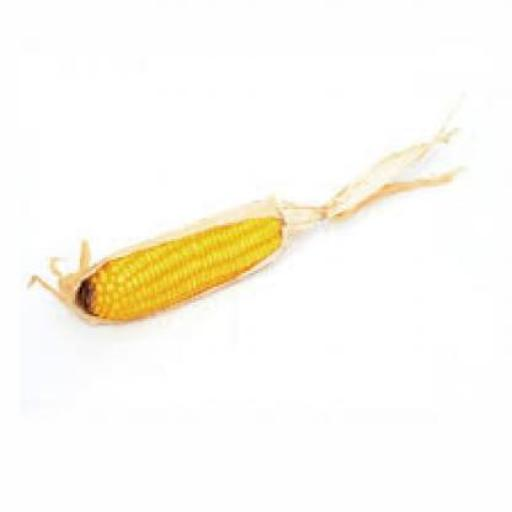biodegradable: (32, 111, 464, 323), (80, 196, 289, 321)
